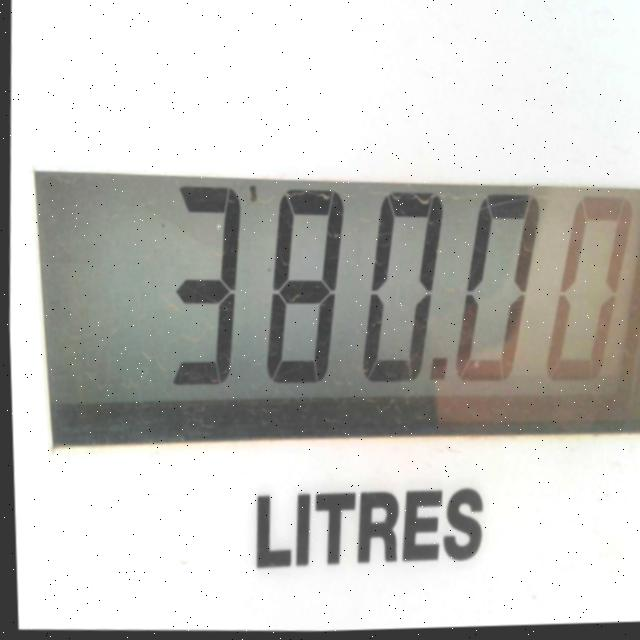.: (423, 346, 451, 406)
0: (445, 195, 552, 405), (355, 195, 443, 399), (539, 195, 629, 391)
3: (165, 196, 245, 394)
8: (269, 188, 344, 388)
